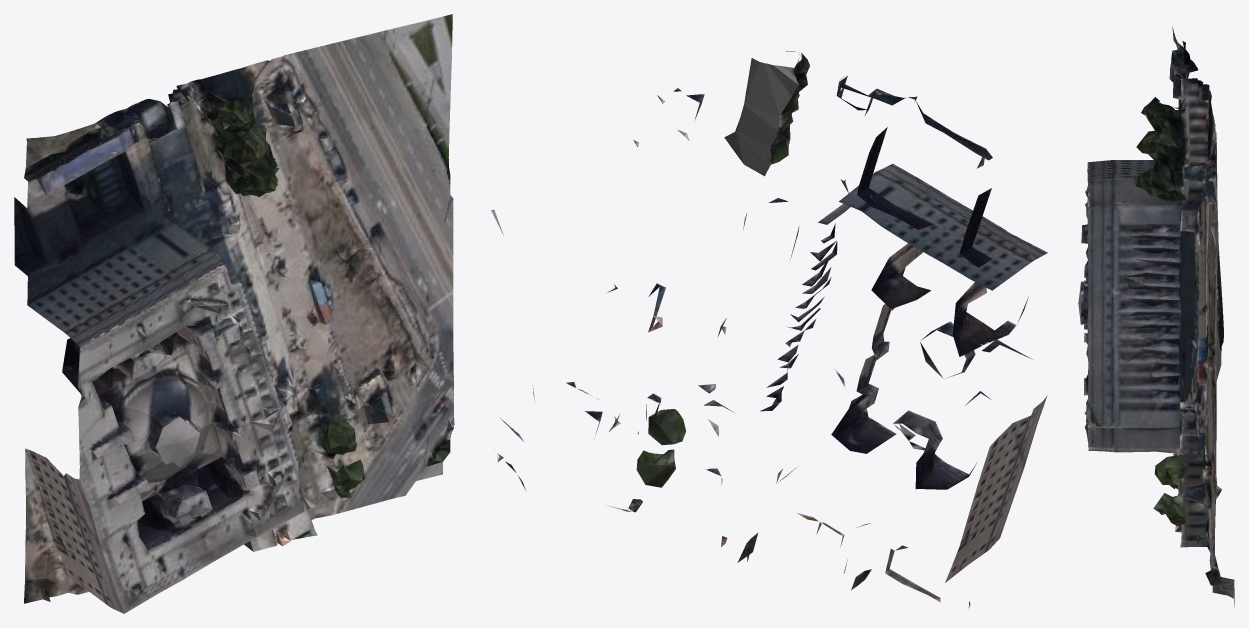
The model's file is Tile_+032_+022_L17_0000.glb.
3 views of the same model, side by side, from view 1: azimuth 30°, elevation 25°; view 2: azimuth 150°, elevation 25°; view 3: azimuth 270°, elevation 25° (orthographic). The views are drawn at different scales.
Size of the model in its own units: 126 by 126 by 43.61.
1 material, 1 textured.
